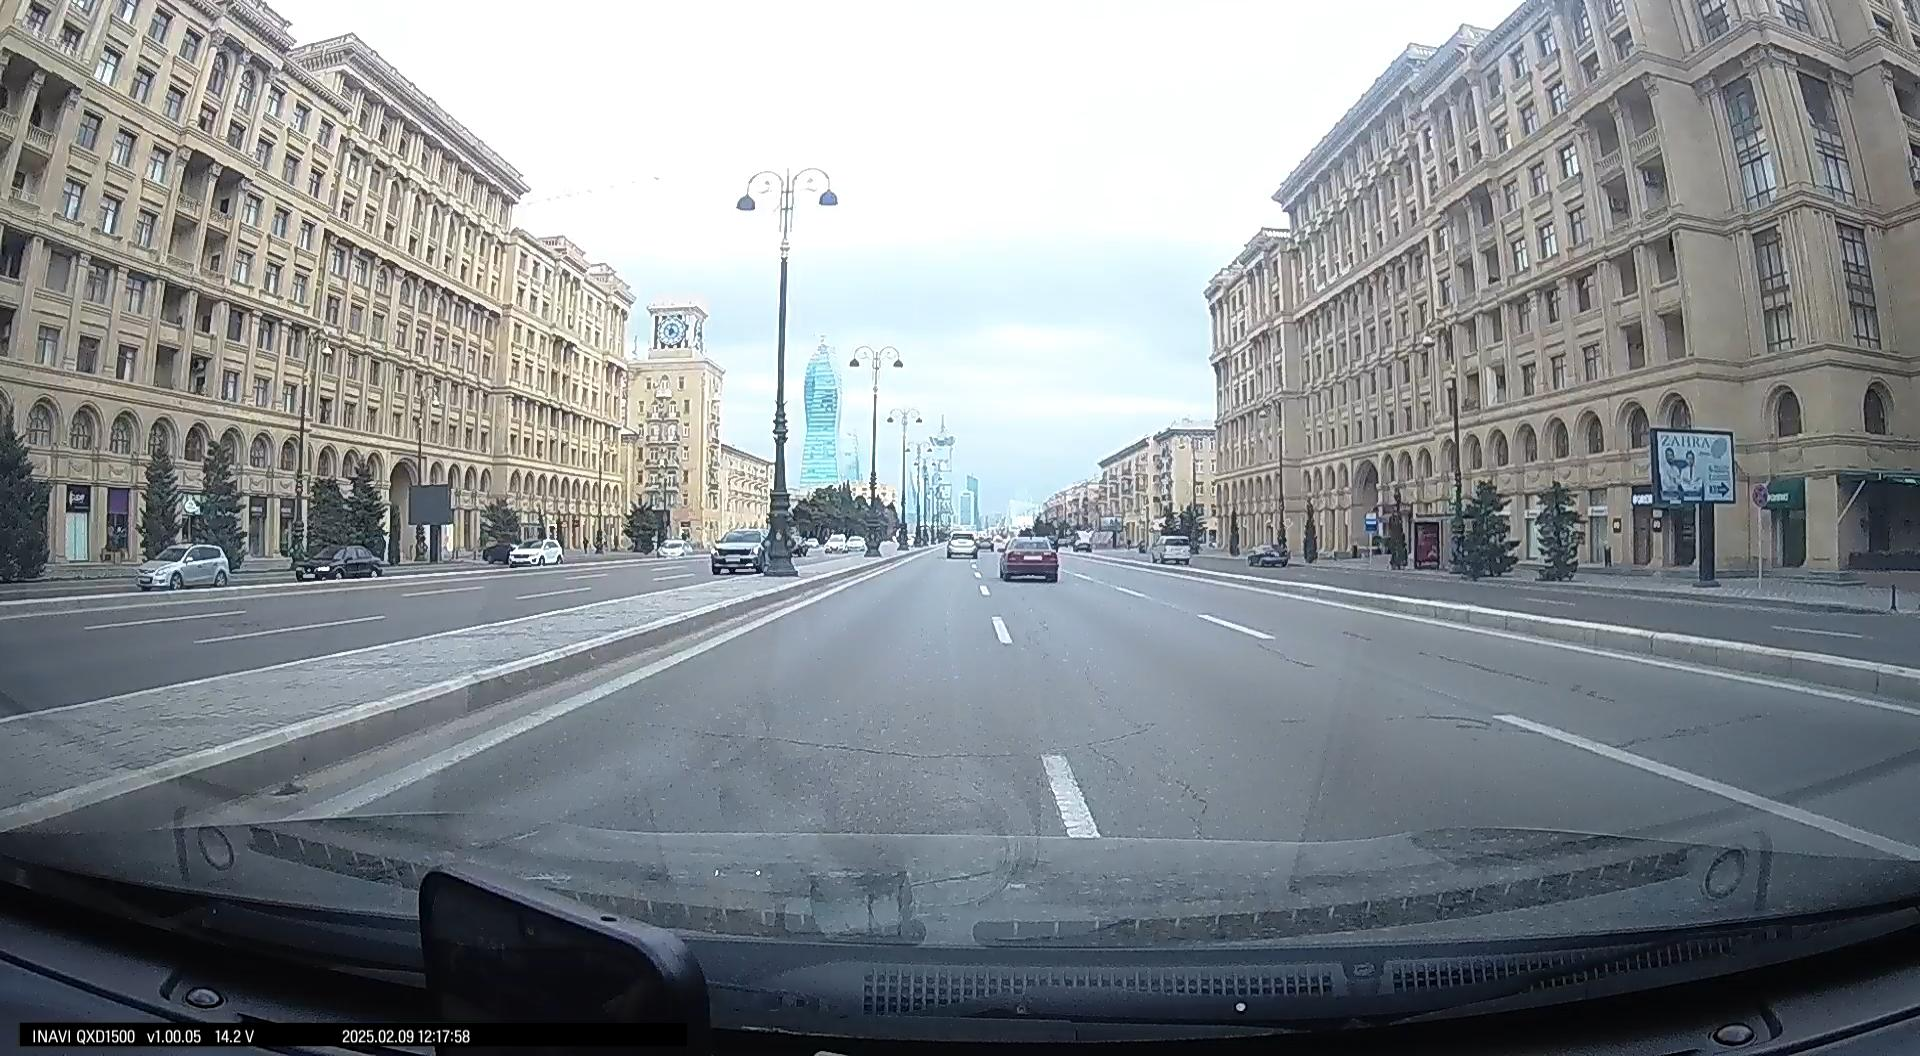banner: (1651, 427, 1737, 505)
